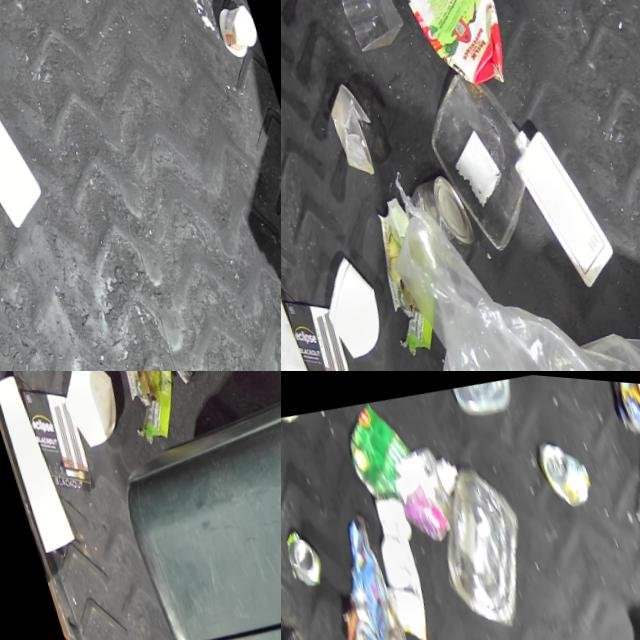can: (330, 394, 421, 507), (394, 167, 479, 272), (530, 431, 599, 512), (281, 517, 328, 598), (613, 425, 640, 558), (599, 374, 640, 447)
milk_jug: (497, 107, 620, 293), (0, 46, 48, 233)
non_white_jug: (391, 0, 518, 105)
